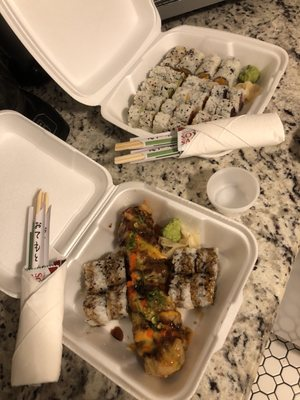curry: (236, 64, 261, 84)
pizza: (206, 166, 260, 218)
sushi: (50, 182, 258, 400), (99, 26, 289, 139), (0, 0, 163, 106), (206, 166, 260, 217)
